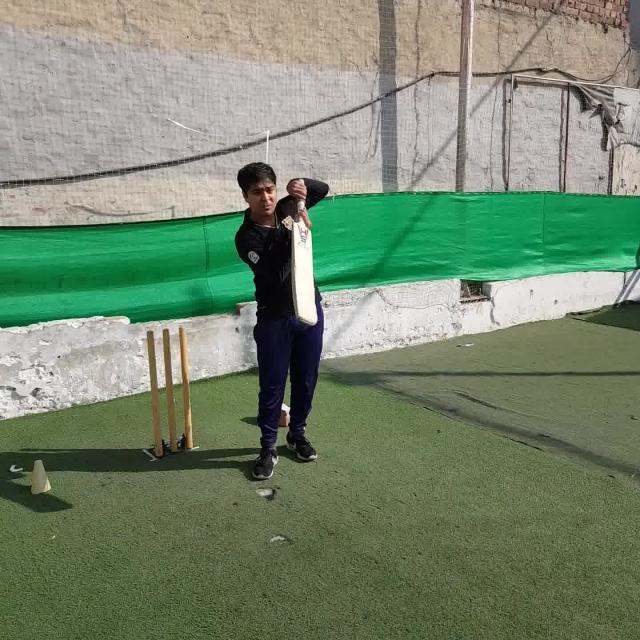bat: (294, 183, 319, 323)
